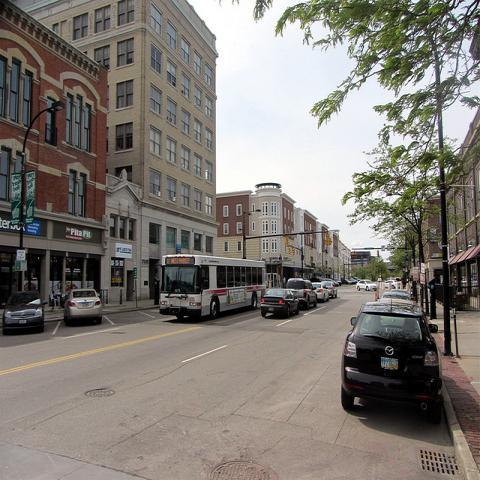bus: (158, 252, 267, 322)
car: (339, 298, 444, 420), (2, 290, 48, 336), (62, 288, 104, 326), (260, 288, 300, 317), (312, 282, 331, 302), (386, 290, 414, 302), (321, 281, 337, 298), (356, 280, 377, 291), (324, 278, 340, 287), (385, 280, 397, 289), (342, 278, 352, 284), (354, 277, 360, 281)
truck: (287, 278, 318, 308)
